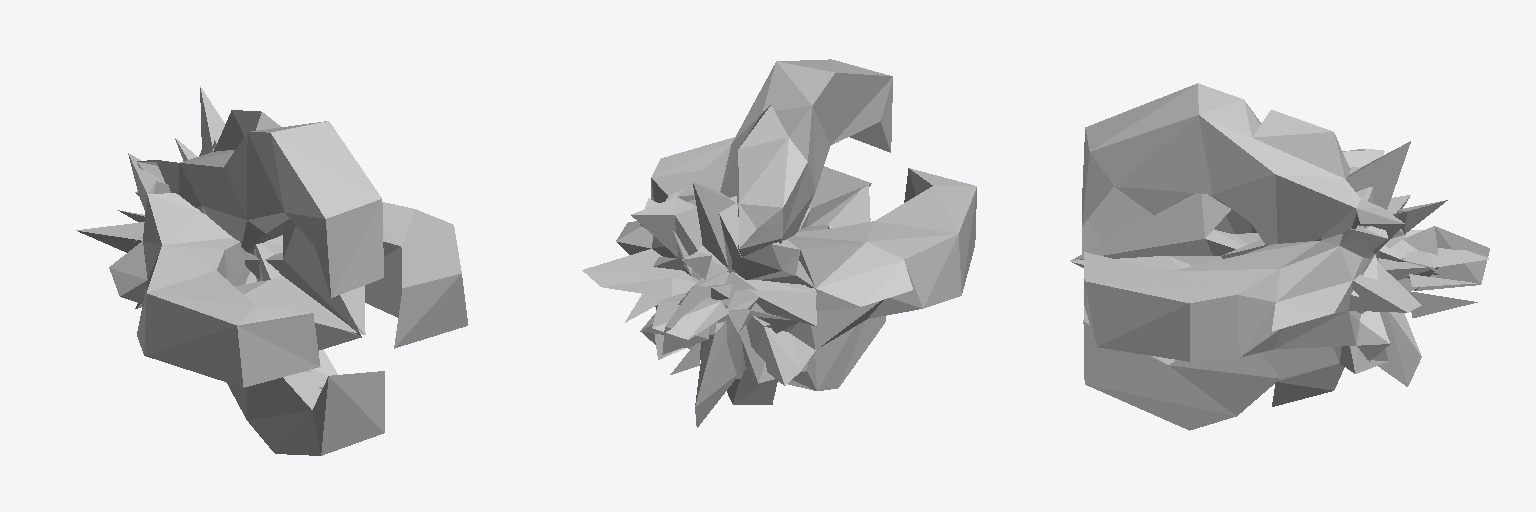
3 views of the same model, side by side, from view 1: azimuth 30°, elevation 25°; view 2: azimuth 150°, elevation 25°; view 3: azimuth 270°, elevation 25° (orthographic).
Visible parts, largest first — view 1: ai_model; view 2: ai_model; view 3: ai_model.
Part boxes in pixels (left/top/right/bottom): ai_model: left=76, top=86, right=467, bottom=455; ai_model: left=582, top=59, right=976, bottom=427; ai_model: left=1070, top=83, right=1489, bottom=430.
Size of the model in its own units: 0.5967 by 0.5967 by 0.7116.